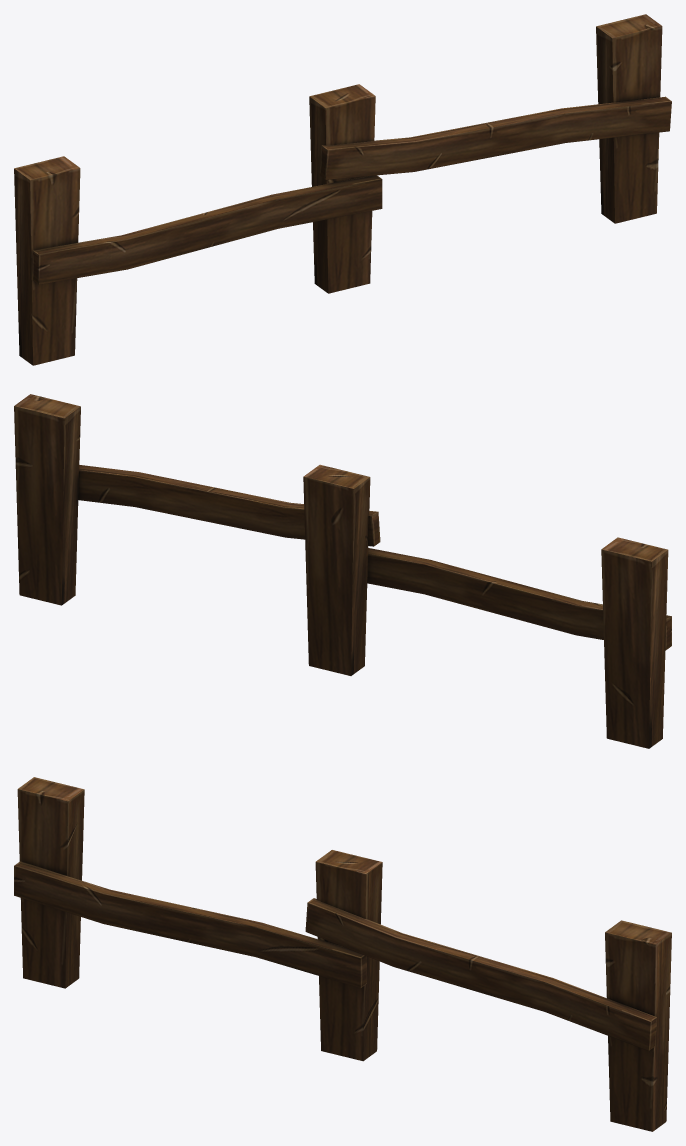
Rendered from modelFence.fbx.
The picture shows the model from 3 angles, top to bottom: view 1: azimuth 30°, elevation 25°; view 2: azimuth 150°, elevation 25°; view 3: azimuth 330°, elevation 25°; orthographic projection.
Parts seen in each view (by area): view 1: modelFence; view 2: modelFence; view 3: modelFence.
Part boxes in pixels (box(x1,y1,x2,y2)): modelFence: box(14, 14, 671, 365); modelFence: box(14, 394, 671, 748); modelFence: box(14, 777, 671, 1131).
Size of the model in its own units: 22.38 by 6.32 by 1.44.
